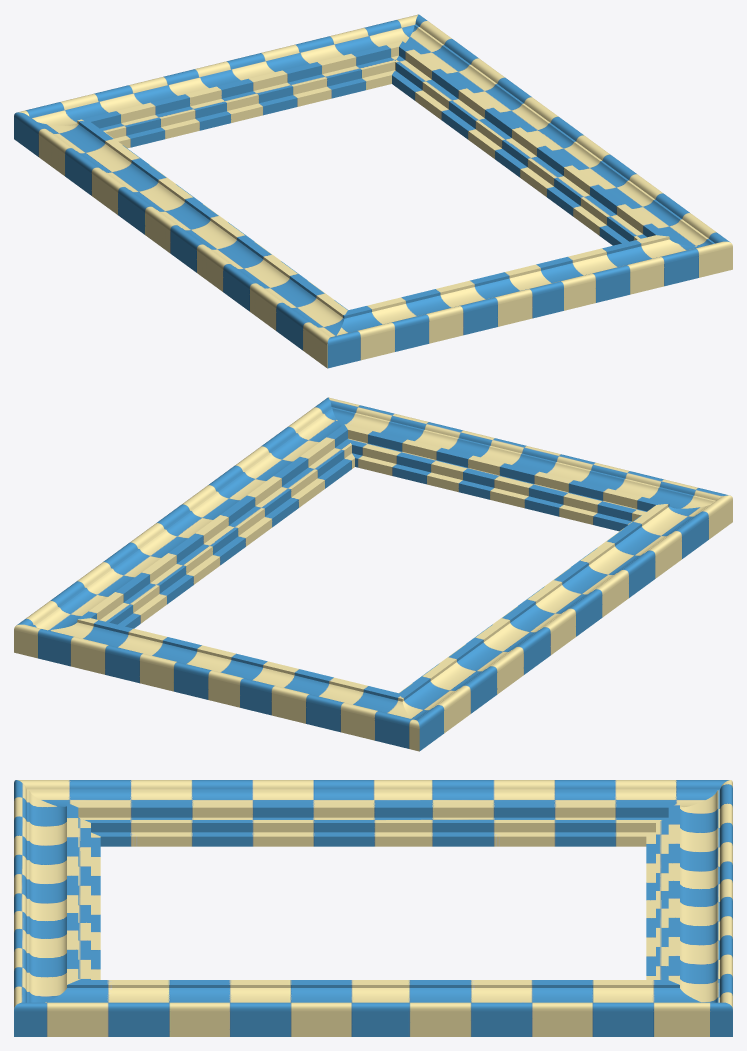
Rendered from M_frame_03.fbx.
3 views of the same model, one above another, from view 1: azimuth 30°, elevation 25°; view 2: azimuth 150°, elevation 25°; view 3: azimuth 270°, elevation 25° (orthographic). The views are drawn at different scales.
Parts seen in each view (by area): view 1: Shape002; view 2: Shape002; view 3: Shape002.
Boxes of the visible parts, bbox=[...] form: Shape002: bbox=[14, 14, 732, 368]; Shape002: bbox=[14, 397, 732, 751]; Shape002: bbox=[14, 780, 732, 1036].
Bounding box in the file's own units: 1.85 × 0.1198 × 2.48.
